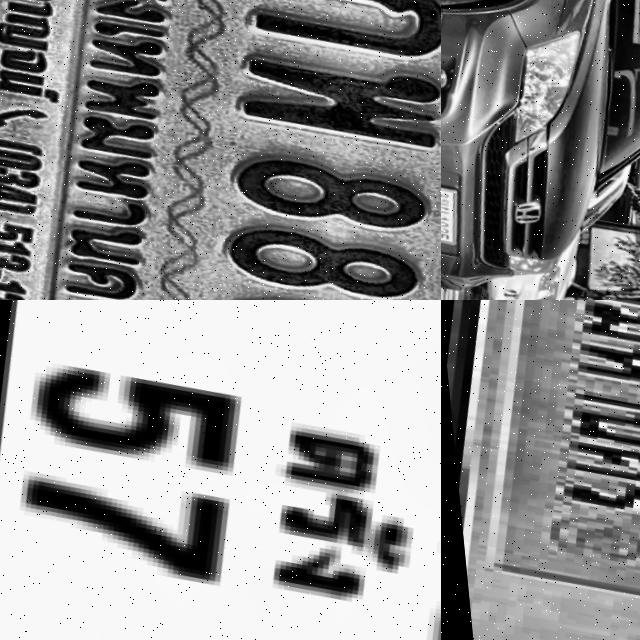license-plate: (0, 300, 441, 640), (0, 0, 441, 300), (441, 300, 640, 640), (441, 173, 461, 254)
